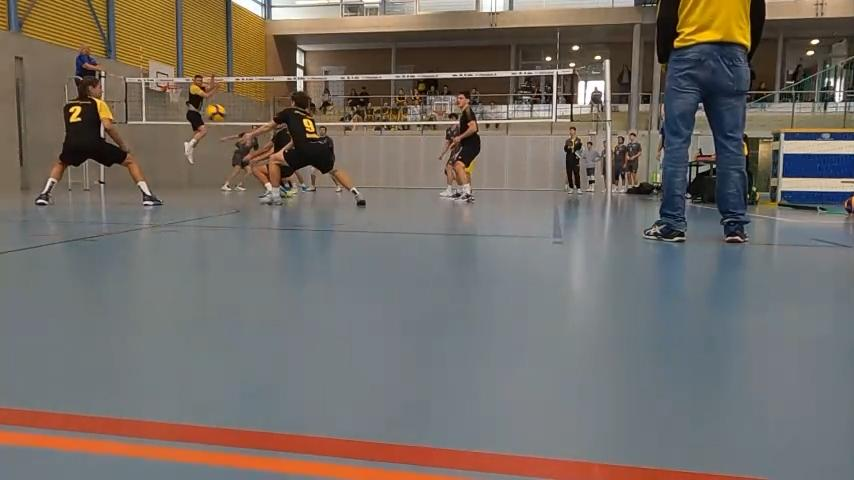Dig: (235, 89, 371, 208)
Player: (35, 77, 162, 205), (246, 125, 296, 204), (453, 91, 480, 202), (184, 75, 217, 163), (221, 133, 258, 191), (439, 124, 464, 197), (319, 126, 334, 161)
ball: (205, 103, 226, 122)
